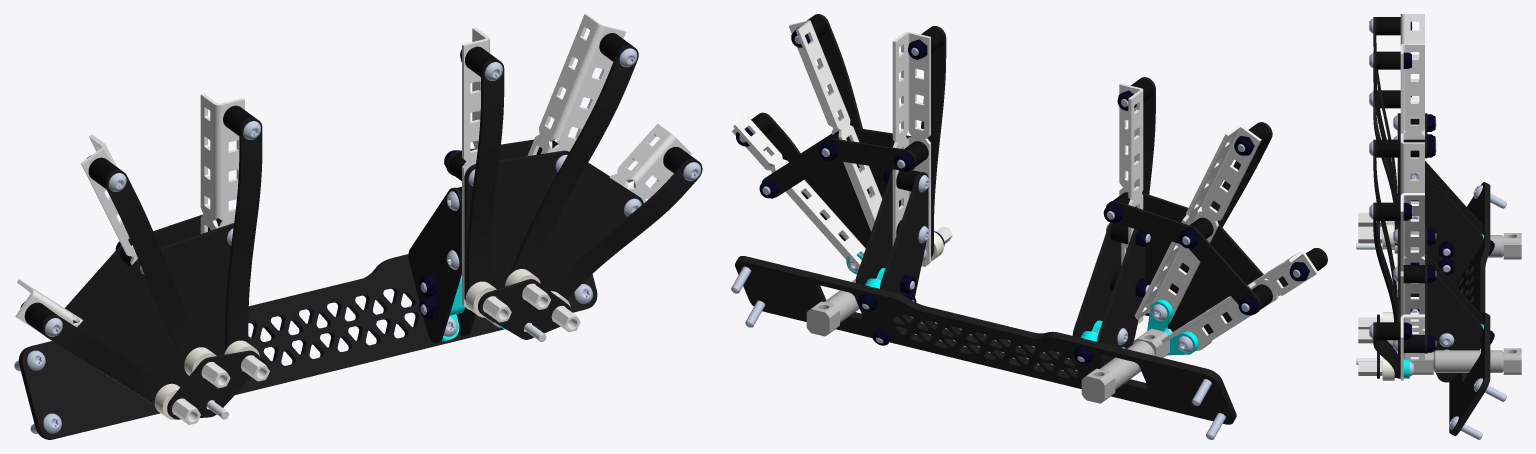
File: Endgame.fbx
3 renders of one model, left to right at view 1: azimuth 30°, elevation 25°; view 2: azimuth 150°, elevation 25°; view 3: azimuth 270°, elevation 25°, orthographic. The views are drawn at different scales.
Visible parts, largest first — view 1: Body1 (×20); view 2: Body1 (×23); view 3: Body1 (×36), Body3 (×4), Body2 (×2).
Boxes of the visible parts, <box> form: Body1 (×20): <box>15,14,702,439</box>; Body1 (×23): <box>732,14,1318,424</box>; Body1 (×36): <box>1358,14,1521,439</box>; Body3 (×4): <box>1376,17,1400,248</box>; Body2 (×2): <box>1358,212,1382,243</box>.
Bounding box in the file's own units: 11.99 × 5.68 × 3.41.
